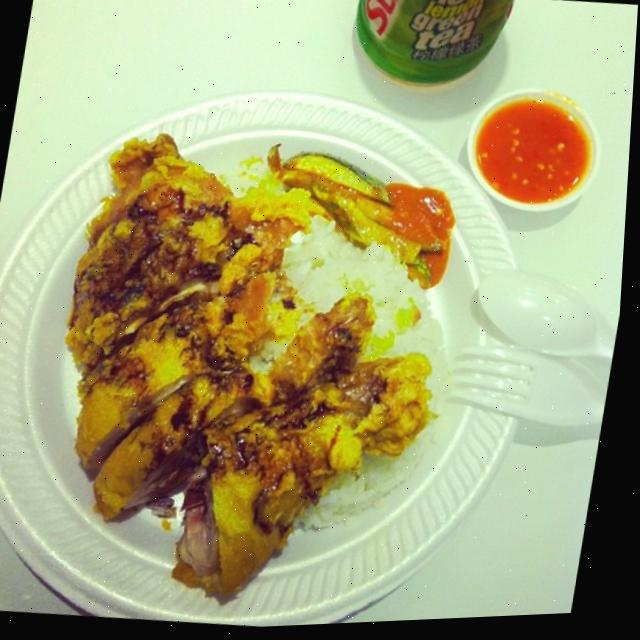米饭主食: (0, 28, 576, 640)
